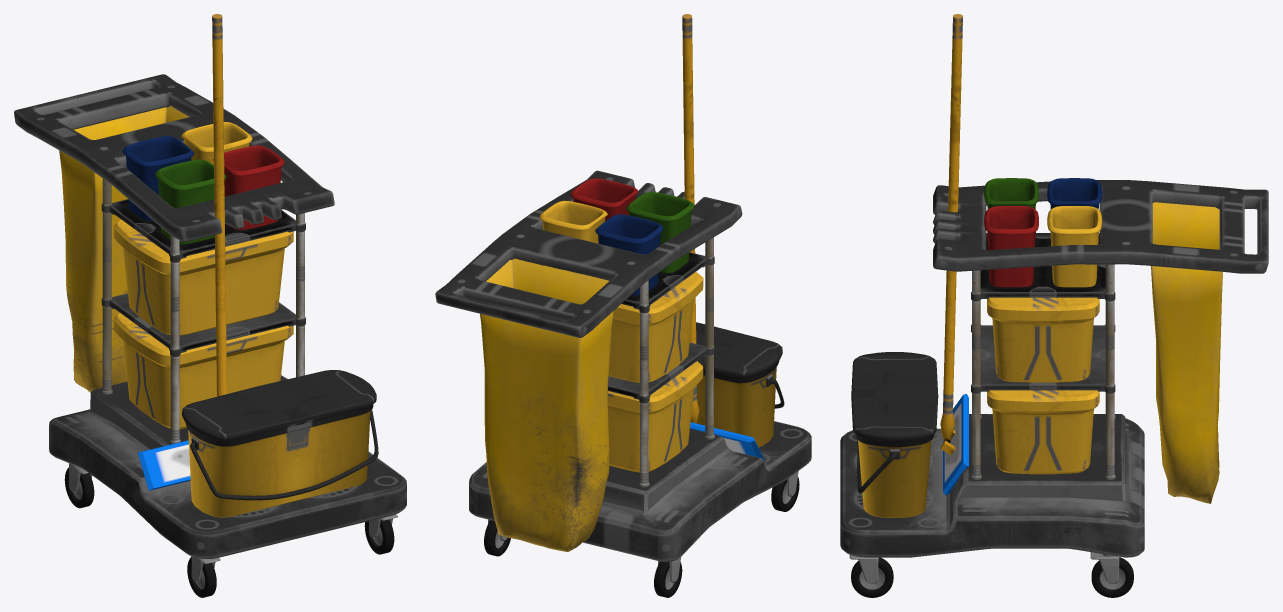
3 views of the same model, side by side, from view 1: azimuth 30°, elevation 25°; view 2: azimuth 150°, elevation 25°; view 3: azimuth 270°, elevation 25° (orthographic). The views are drawn at different scales.
Parts seen in each view (by area): view 1: CT_CartBody; view 2: CT_CartBody; view 3: CT_CartBody.
Boxes of the visible parts, bbox=[...] form: CT_CartBody: bbox=[14, 14, 406, 597]; CT_CartBody: bbox=[435, 14, 811, 597]; CT_CartBody: bbox=[840, 14, 1268, 597].
Bounding box in the file's own units: 3.33 × 7.75 × 5.75.
1 material, 1 textured.
